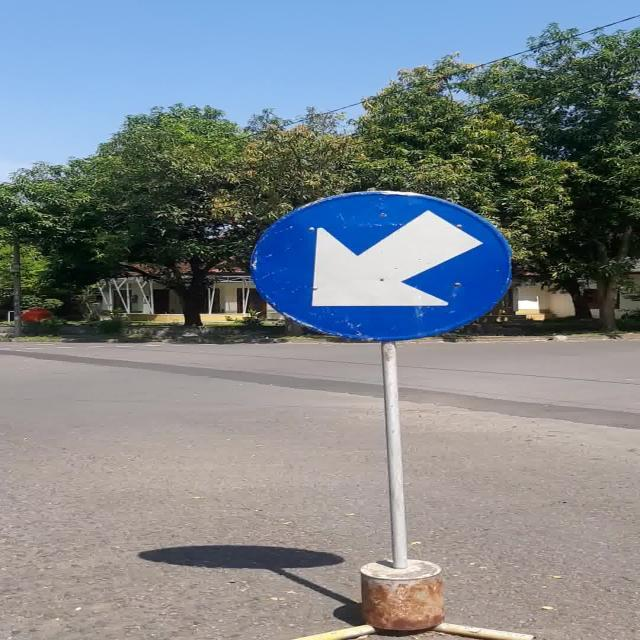Lajur Kiri: (253, 191, 512, 341)
